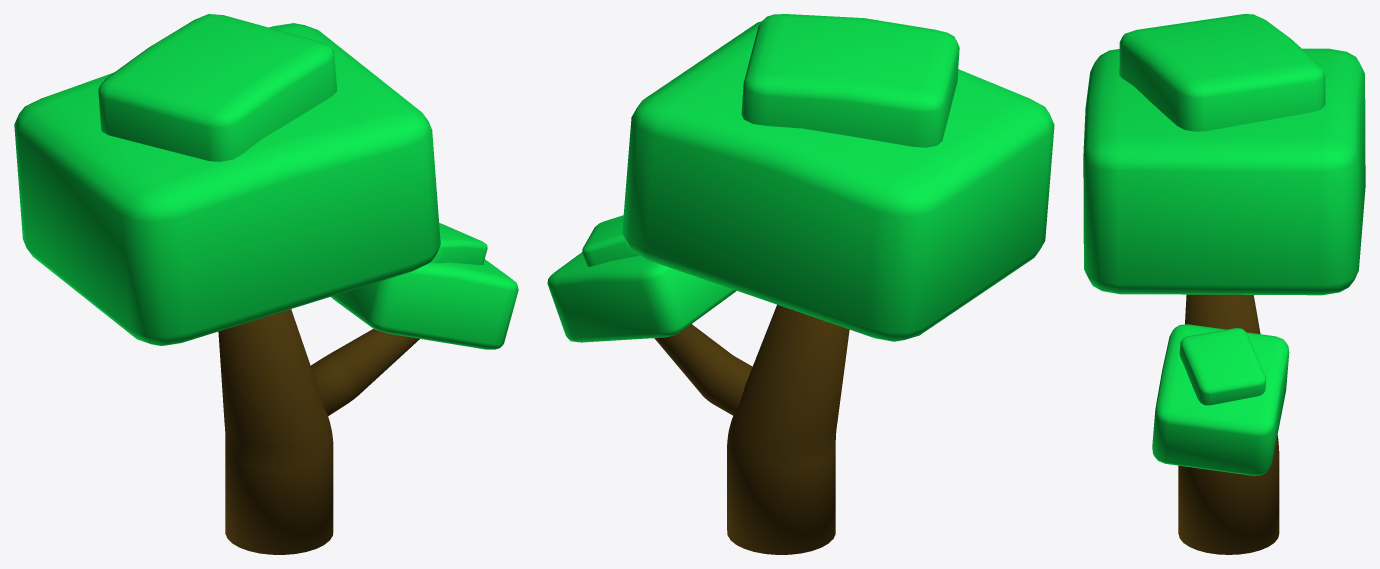
The model's file is Tree001.fbx.
3 views of the same model, side by side, from view 1: azimuth 30°, elevation 25°; view 2: azimuth 150°, elevation 25°; view 3: azimuth 270°, elevation 25° (orthographic). The views are drawn at different scales.
Parts seen in each view (by area): view 1: Cube.001, Cylinder.001, Cube.002; view 2: Cube.001, Cylinder.001, Cube.002; view 3: Cube.001, Cube.002, Cylinder.001.
Boxes of the visible parts, bbox=[...] form: Cube.001: bbox=[14, 14, 440, 345]; Cylinder.001: bbox=[218, 309, 419, 554]; Cube.002: bbox=[330, 223, 518, 349]; Cube.001: bbox=[622, 14, 1054, 341]; Cylinder.001: bbox=[654, 304, 849, 554]; Cube.002: bbox=[547, 215, 736, 342]; Cube.001: bbox=[1083, 14, 1365, 295]; Cube.002: bbox=[1152, 324, 1289, 475]; Cylinder.001: bbox=[1178, 294, 1279, 554].
Size of the model in its own units: 801 by 889 by 493.
